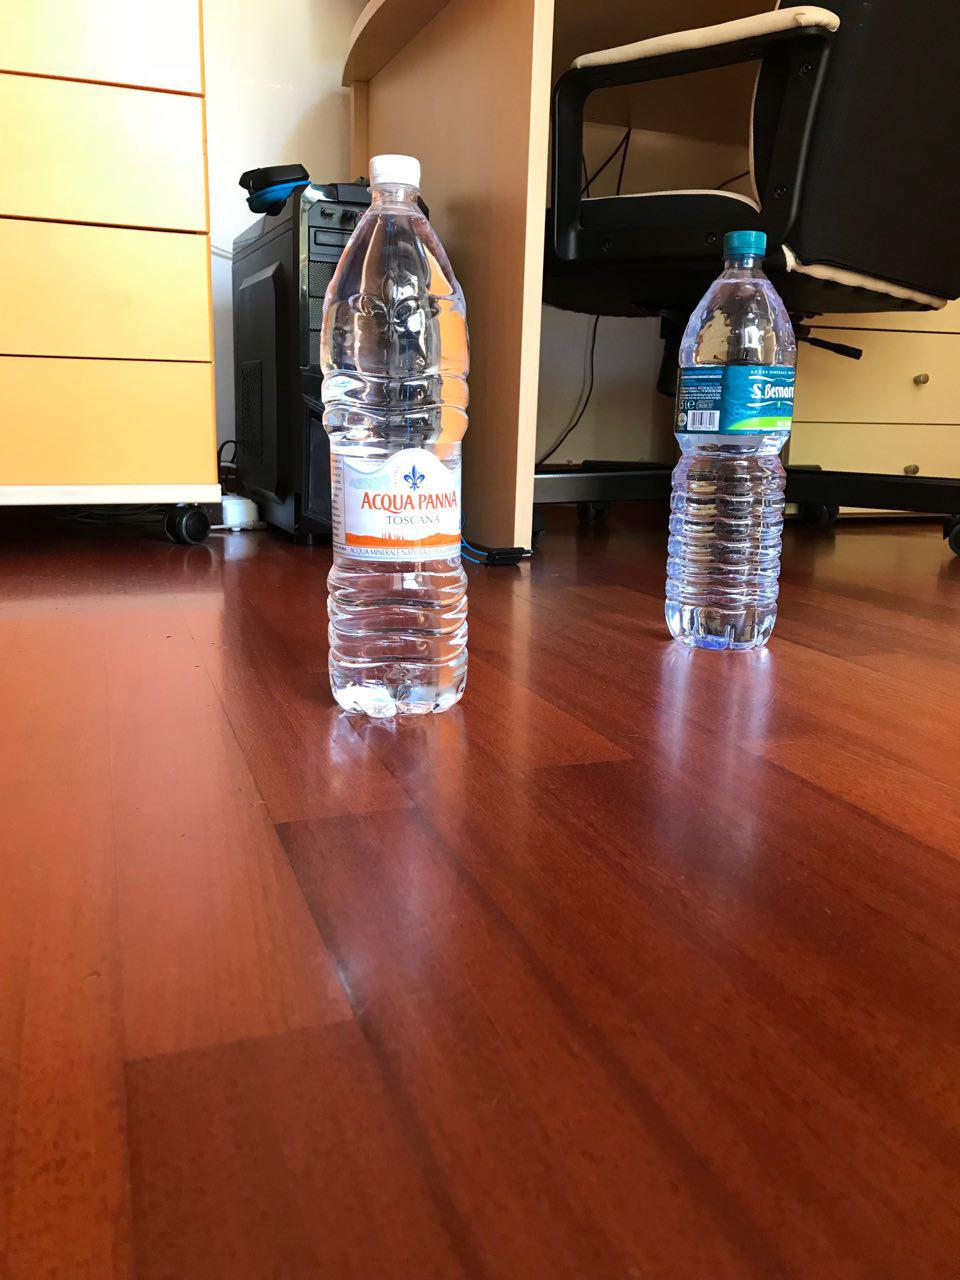san_bernardo: (664, 228, 798, 650)
